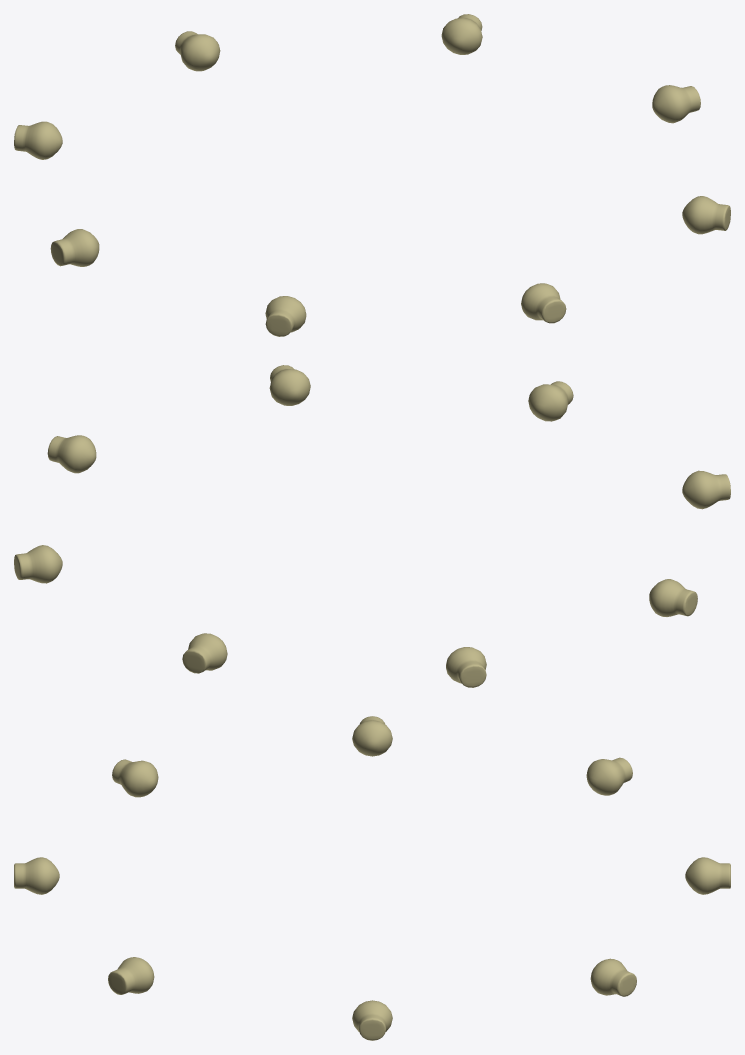
The model's file is GoldChandelier-lambs.glb.
The picture shows the model from 3 angles, top to bottom: view 1: azimuth 30°, elevation 25°; view 2: azimuth 150°, elevation 25°; view 3: azimuth 270°, elevation 25°; orthographic projection. The views are drawn at different scales.
Visible parts, largest first — view 1: Lights; view 2: Lights; view 3: Lights.
Part boxes in pixels (x1,y1,x2,y2): Lights: [14, 14, 730, 336]; Lights: [14, 365, 730, 687]; Lights: [14, 716, 730, 1040].
Size of the model in its own units: 3.13 by 0.1627 by 3.13.
